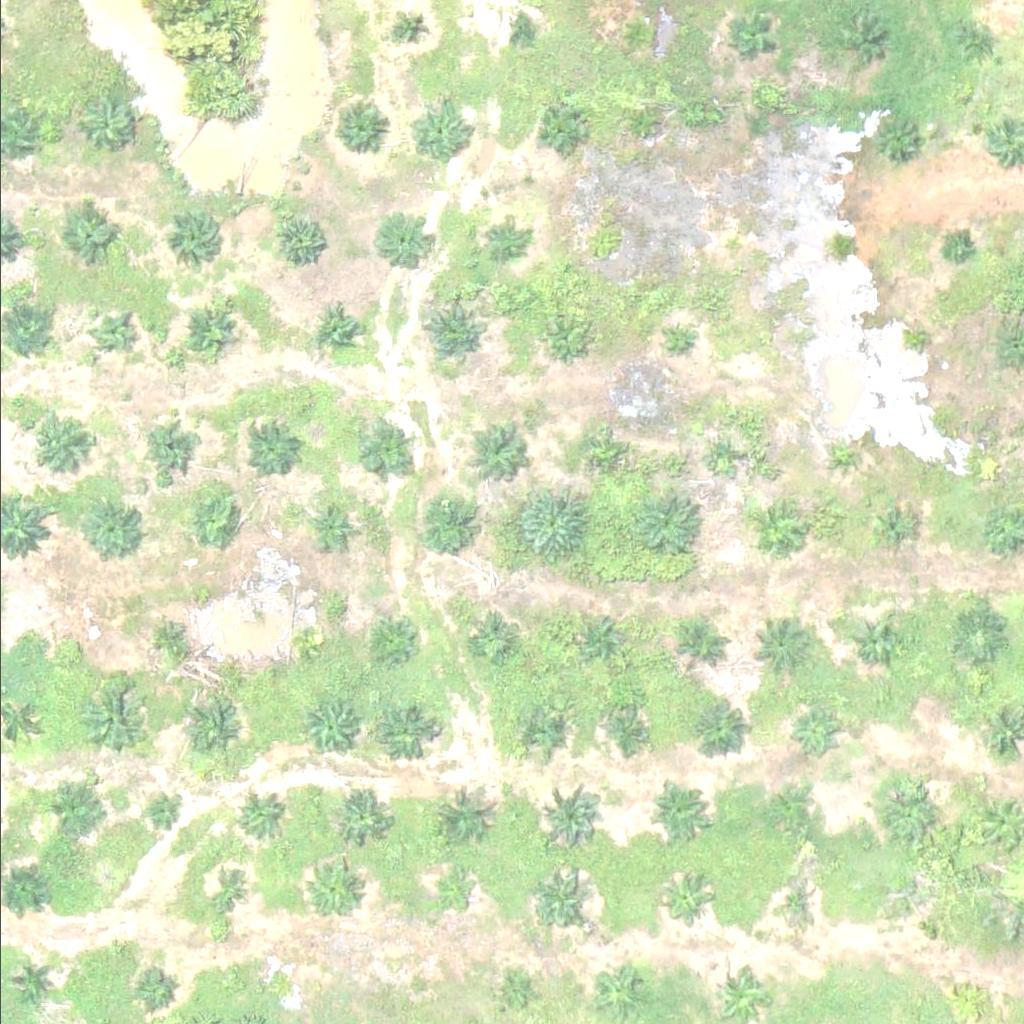Kelapa_Sawit: (628, 484, 704, 559), (410, 488, 486, 563), (84, 683, 160, 758), (514, 488, 590, 563), (468, 417, 531, 480), (586, 959, 649, 1022), (372, 702, 435, 765), (422, 302, 485, 365), (748, 618, 811, 681), (877, 776, 940, 839), (679, 697, 742, 760), (641, 781, 704, 843), (25, 414, 88, 476), (180, 694, 243, 756), (428, 782, 491, 844), (527, 869, 590, 931), (544, 785, 607, 847), (78, 493, 141, 555), (325, 96, 388, 158), (183, 300, 246, 362), (407, 100, 470, 162), (294, 699, 356, 761), (660, 875, 711, 925), (61, 205, 112, 255), (375, 216, 426, 266), (76, 99, 127, 149), (274, 213, 325, 263), (310, 304, 361, 354), (538, 106, 589, 156), (952, 612, 1003, 662), (766, 879, 817, 929), (768, 791, 819, 841), (791, 709, 842, 759), (849, 617, 900, 667), (150, 425, 200, 475), (356, 428, 406, 478), (246, 424, 296, 474), (373, 614, 423, 664), (469, 613, 519, 663), (338, 795, 388, 845), (306, 865, 356, 915), (43, 778, 93, 828), (190, 491, 240, 541), (172, 210, 222, 260), (748, 506, 798, 556), (147, 618, 197, 668), (603, 707, 653, 757), (519, 709, 569, 759), (583, 615, 633, 665), (678, 620, 728, 670), (865, 502, 915, 552), (234, 790, 284, 840), (868, 117, 918, 167), (729, 14, 779, 64), (836, 14, 886, 64), (950, 21, 1000, 71), (312, 506, 350, 544), (482, 219, 520, 257), (144, 793, 182, 831), (956, 983, 994, 1021), (433, 870, 471, 908), (250, 968, 288, 1006), (208, 874, 246, 912), (539, 324, 577, 361), (12, 959, 50, 996), (137, 973, 174, 1011), (95, 313, 133, 350), (904, 890, 942, 927), (391, 11, 429, 48), (616, 15, 653, 53), (621, 108, 659, 145), (497, 973, 534, 1010), (943, 234, 969, 259), (587, 446, 613, 471), (833, 439, 858, 464), (705, 444, 730, 469), (662, 327, 687, 352), (906, 327, 931, 352), (297, 627, 322, 652), (62, 634, 87, 659), (507, 17, 532, 42), (717, 233, 742, 258)
